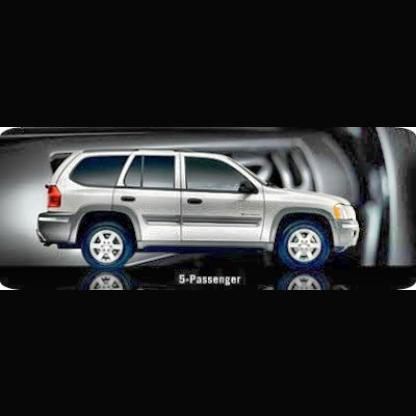Isuzu Ascender SUV 2008: (35, 145, 364, 276)
